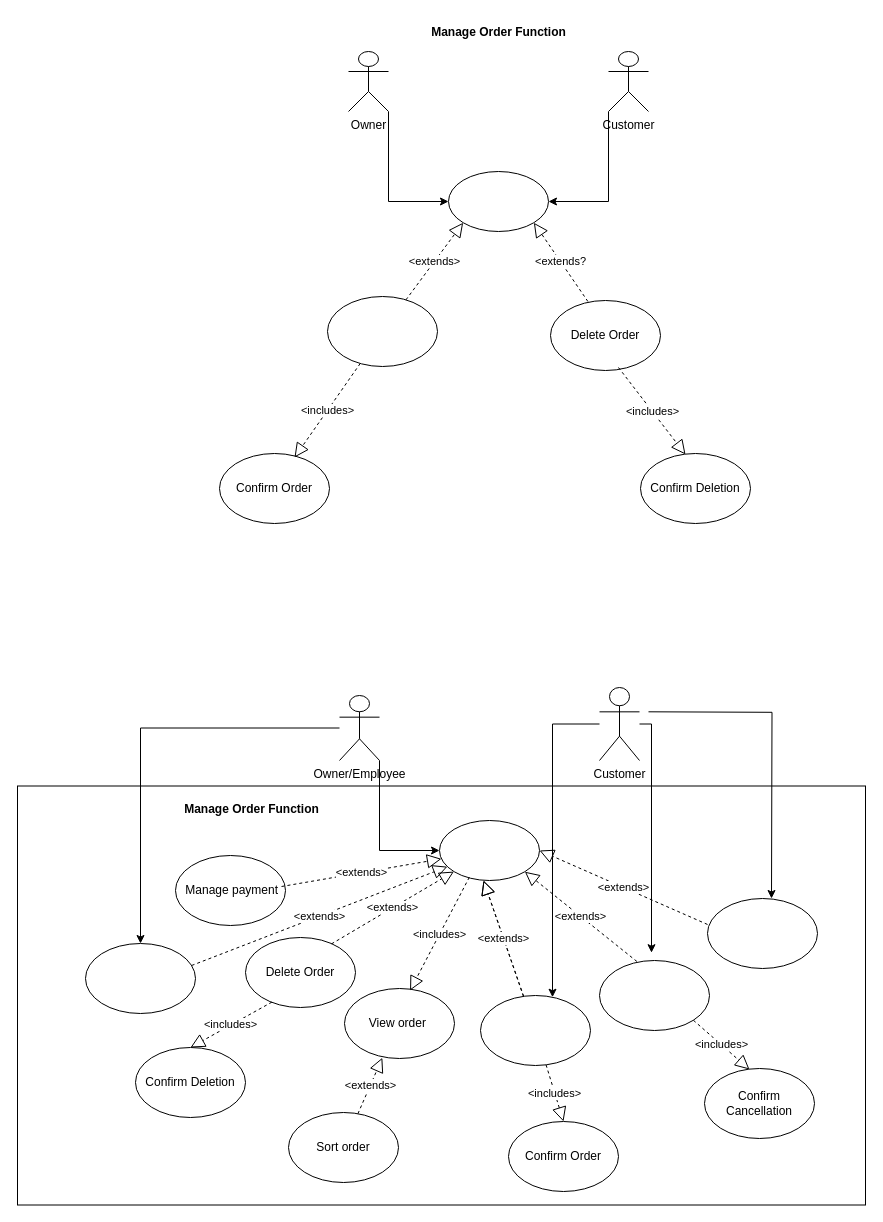
Image size: 883x1222. Some labels were removed from this diagram. The shapes that lost their labels are listed below. From the top down, each one's centre as x and y in pixels, then its label:
At pixel 498 201: "Order".
At pixel 382 331: "Modify Order".
At pixel 489 850: "Manage Order".
At pixel 762 933: "Pay order".
At pixel 140 978: "Approve Deletion".
At pixel 654 995: "Cancel Order".
At pixel 535 1030: "Add Order".
